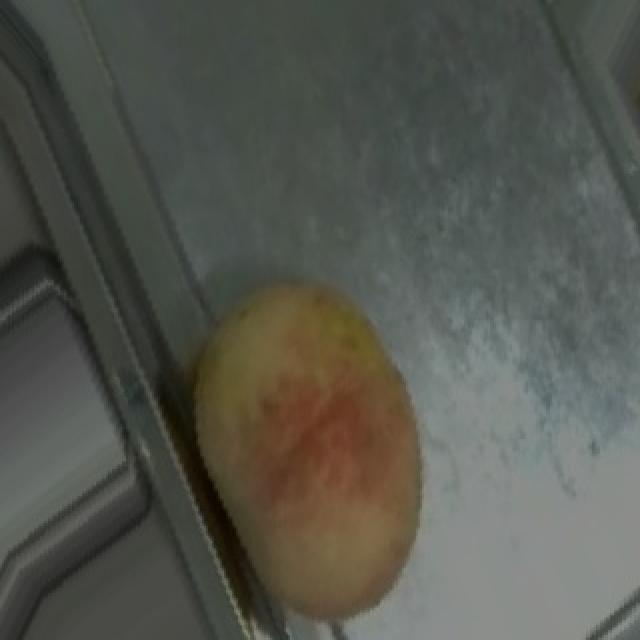Fruit: (146, 235, 470, 632)
